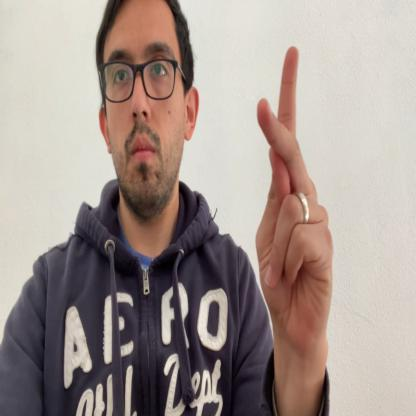P: (256, 43, 333, 347)
